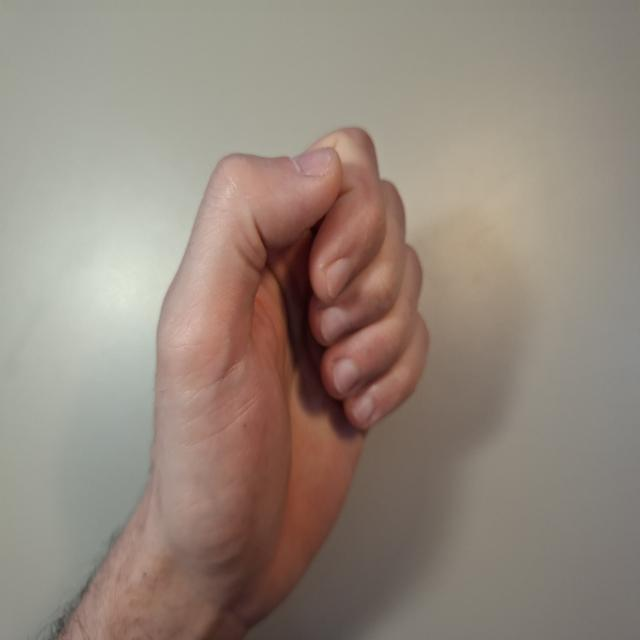glove_off: (148, 122, 432, 631)
